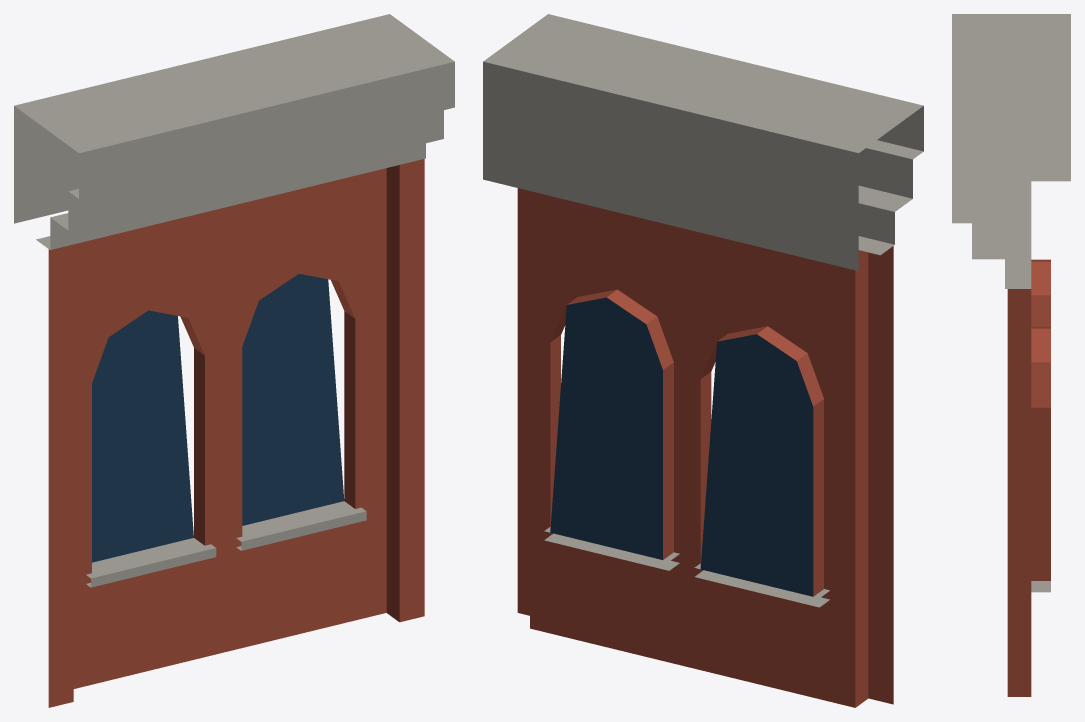
Rendered from top-w1.fbx.
The picture shows the model from 3 angles, left to right: view 1: azimuth 30°, elevation 25°; view 2: azimuth 150°, elevation 25°; view 3: azimuth 270°, elevation 25°; orthographic projection. The views are drawn at different scales.
Visible parts, largest first — view 1: a2012/600/top-w1; view 2: a2012/600/top-w1; view 3: a2012/600/top-w1.
Boxes of the visible parts, <box> form: a2012/600/top-w1: <box>14,14,454,707</box>; a2012/600/top-w1: <box>483,14,923,707</box>; a2012/600/top-w1: <box>952,14,1070,696</box>.
Bounding box in the file's own units: 3 × 4.4 × 0.9.
